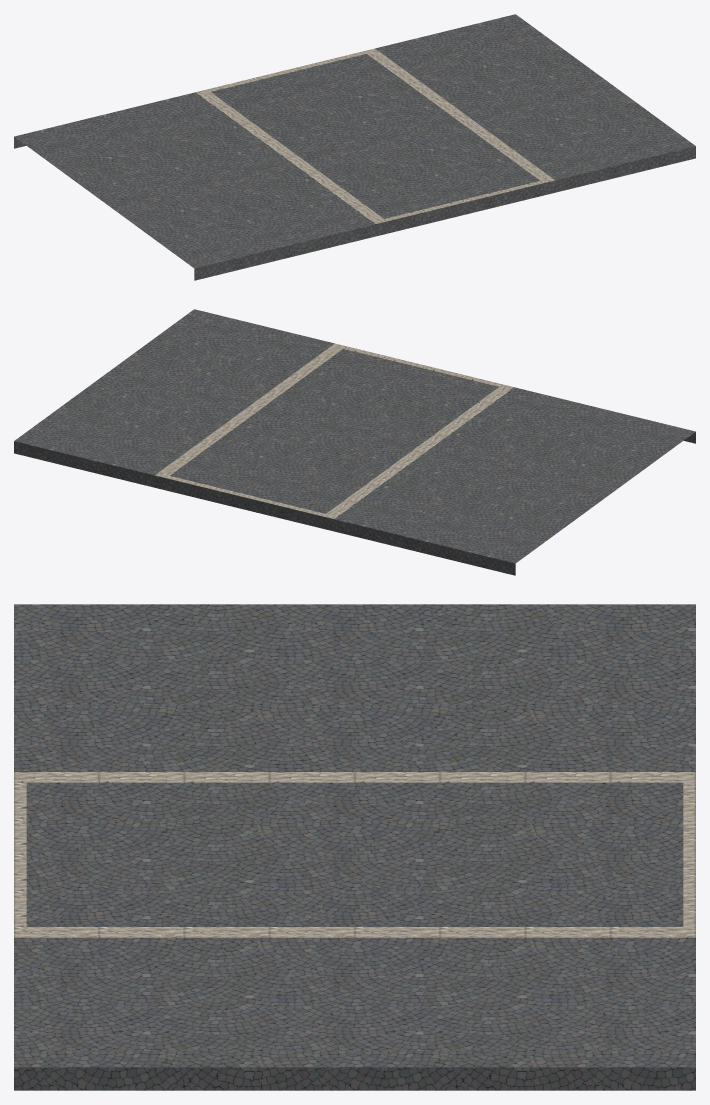
Rendered from SM_Pav_FasciaPalme_8m.fbx.
3 renders of one model, top to bottom at view 1: azimuth 30°, elevation 25°; view 2: azimuth 150°, elevation 25°; view 3: azimuth 270°, elevation 25°, orthographic. The views are drawn at different scales.
Parts seen in each view (by area): view 1: SM_Pav_FasciaPalme_8m; view 2: SM_Pav_FasciaPalme_8m; view 3: SM_Pav_FasciaPalme_8m.
Boxes of the visible parts, bbox=[...] form: SM_Pav_FasciaPalme_8m: bbox=[14, 14, 695, 280]; SM_Pav_FasciaPalme_8m: bbox=[14, 309, 695, 575]; SM_Pav_FasciaPalme_8m: bbox=[14, 604, 695, 1090].
Size of what is drawn, in the model's own units: 1285 by 800 by 30.
Materials: 2 (2 with a texture image).
